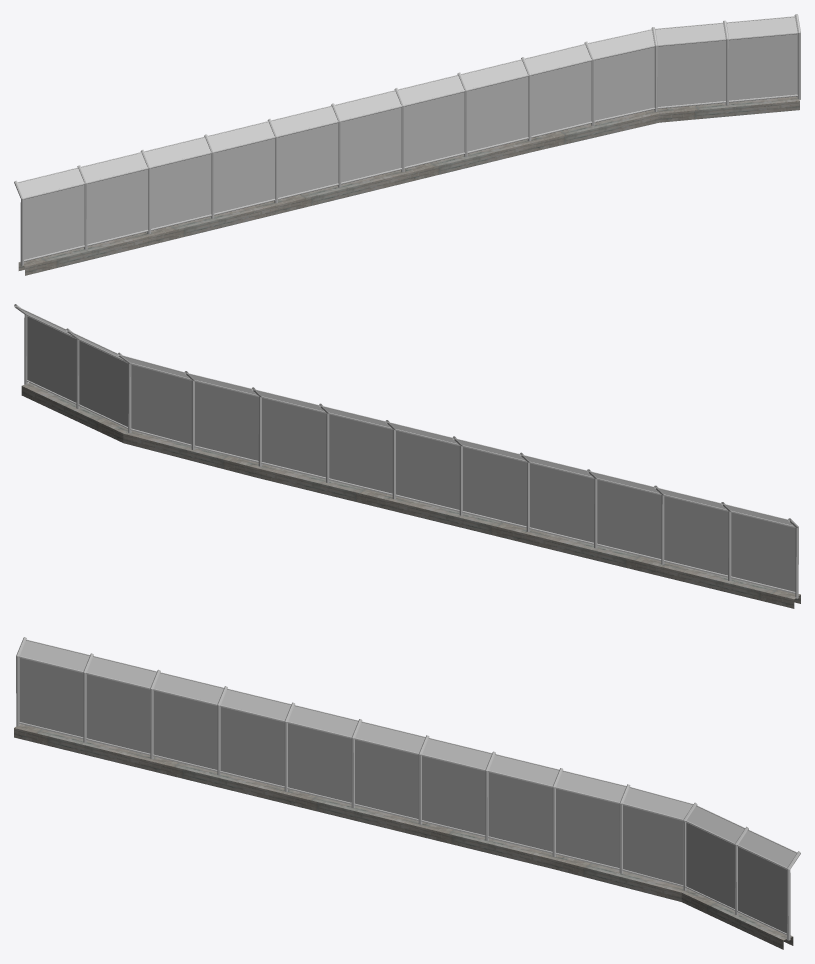
Rendered from zaun.fbx.
3 renders of one model, top to bottom at view 1: azimuth 30°, elevation 25°; view 2: azimuth 150°, elevation 25°; view 3: azimuth 330°, elevation 25°, orthographic. The views are drawn at different scales.
Parts seen in each view (by area): view 1: Mesh; view 2: Mesh; view 3: Mesh.
Part boxes in pixels (x1=…): Mesh: x1=14, y1=14, x2=800, y2=275; Mesh: x1=14, y1=304, x2=800, y2=608; Mesh: x1=14, y1=637, x2=800, y2=949.
Size of the model in its own units: 2759 by 306 by 217.
